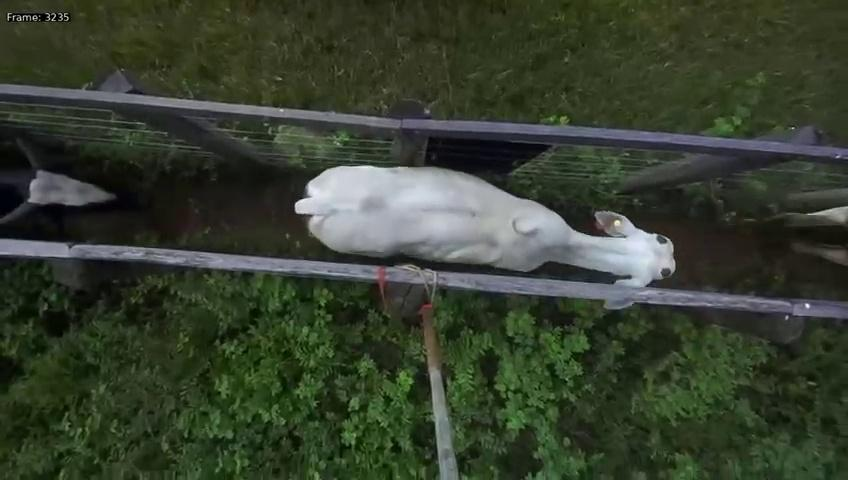cattle: (287, 158, 681, 320)
